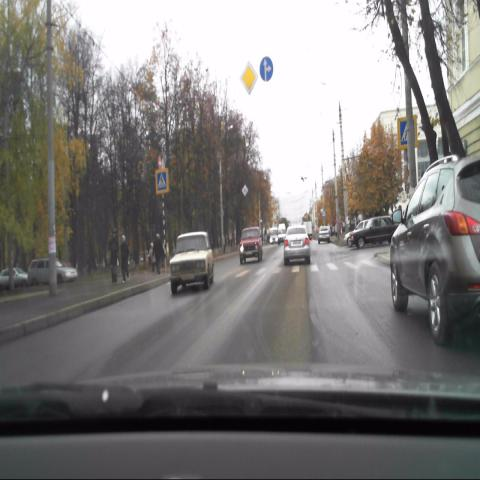4_1_4: (258, 56, 272, 82)
